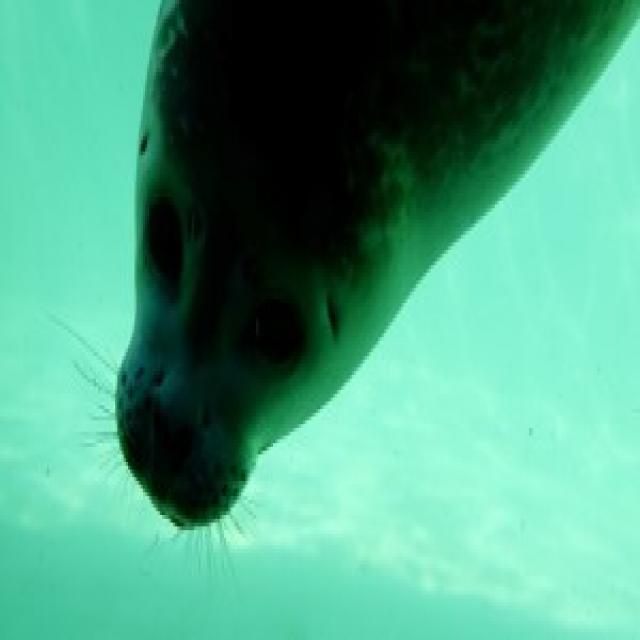Seal: (85, 0, 638, 549)
